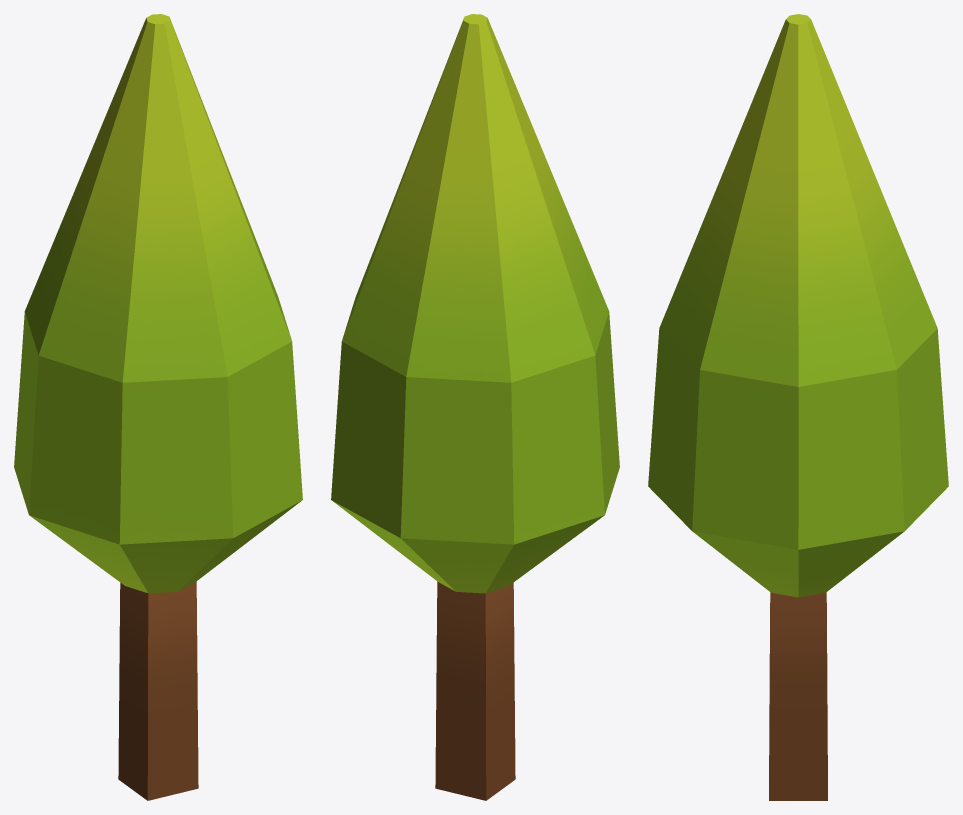
File: tree.fbx
The picture shows the model from 3 angles, left to right: view 1: azimuth 30°, elevation 25°; view 2: azimuth 150°, elevation 25°; view 3: azimuth 270°, elevation 25°; orthographic projection.
Parts seen in each view (by area): view 1: tree; view 2: tree; view 3: tree.
Part boxes in pixels (<box>): tree: <box>14,14,302,800</box>; tree: <box>331,14,619,800</box>; tree: <box>648,14,948,800</box>.
Bounding box in the file's own units: 6.28 × 17.73 × 6.28.
1 material, 1 textured.
